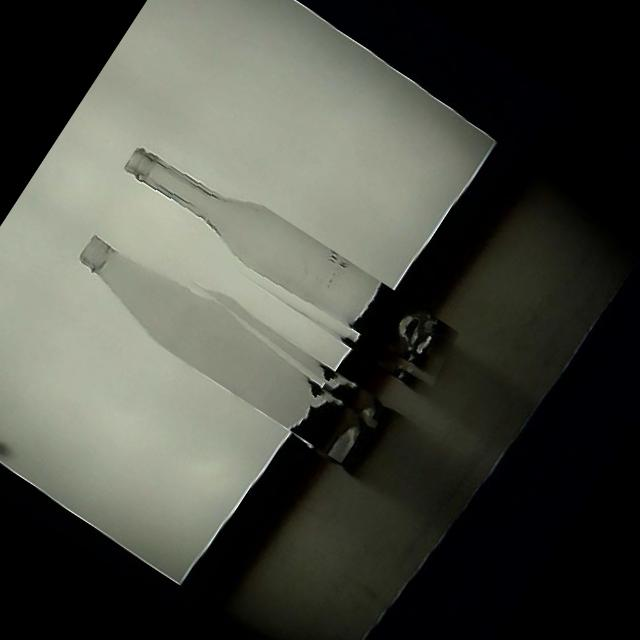Glass: (103, 130, 464, 403), (61, 214, 393, 468)
